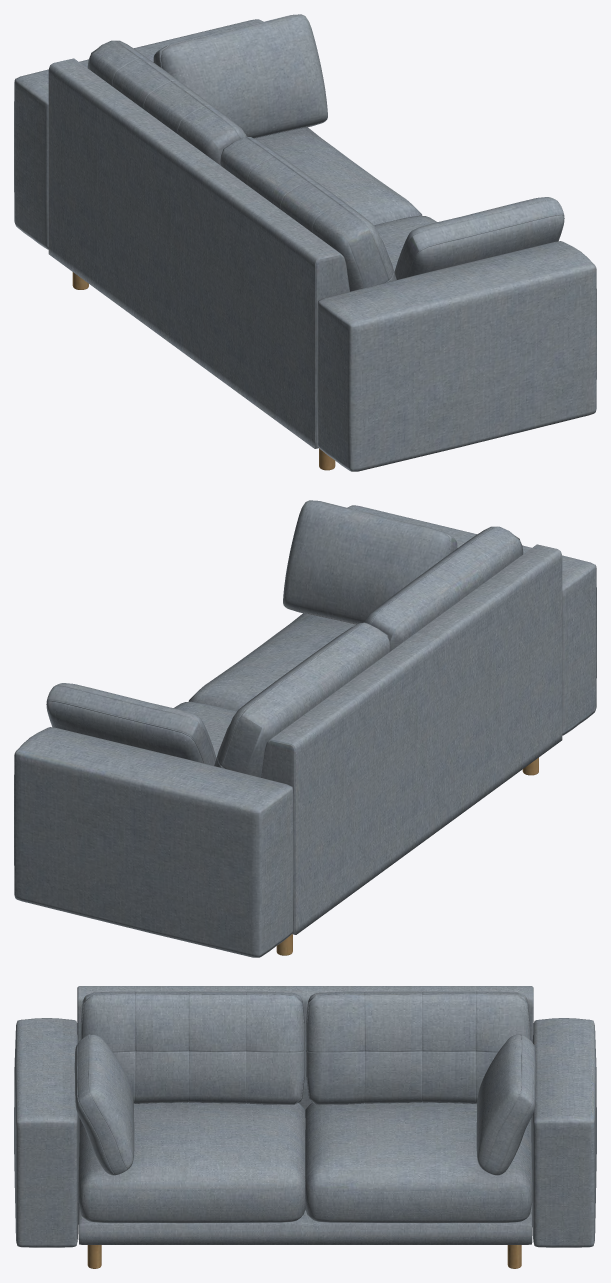
File: tobias.glb
The picture shows the model from 3 angles, top to bottom: view 1: azimuth 30°, elevation 25°; view 2: azimuth 150°, elevation 25°; view 3: azimuth 270°, elevation 25°; orthographic projection. The views are drawn at different scales.
Parts seen in each view (by area): view 1: MAIN; view 2: MAIN; view 3: MAIN, DOOR.
Boxes of the visible parts, box(x1,y1,x2,y2) form: MAIN: box(14, 14, 596, 471); MAIN: box(14, 500, 596, 957); MAIN: box(14, 986, 596, 1247); DOOR: box(87, 1245, 521, 1268).
Size of the model in its own units: 0.8675 by 0.7749 by 2.02.
Materials: 2 (2 with a texture image).
